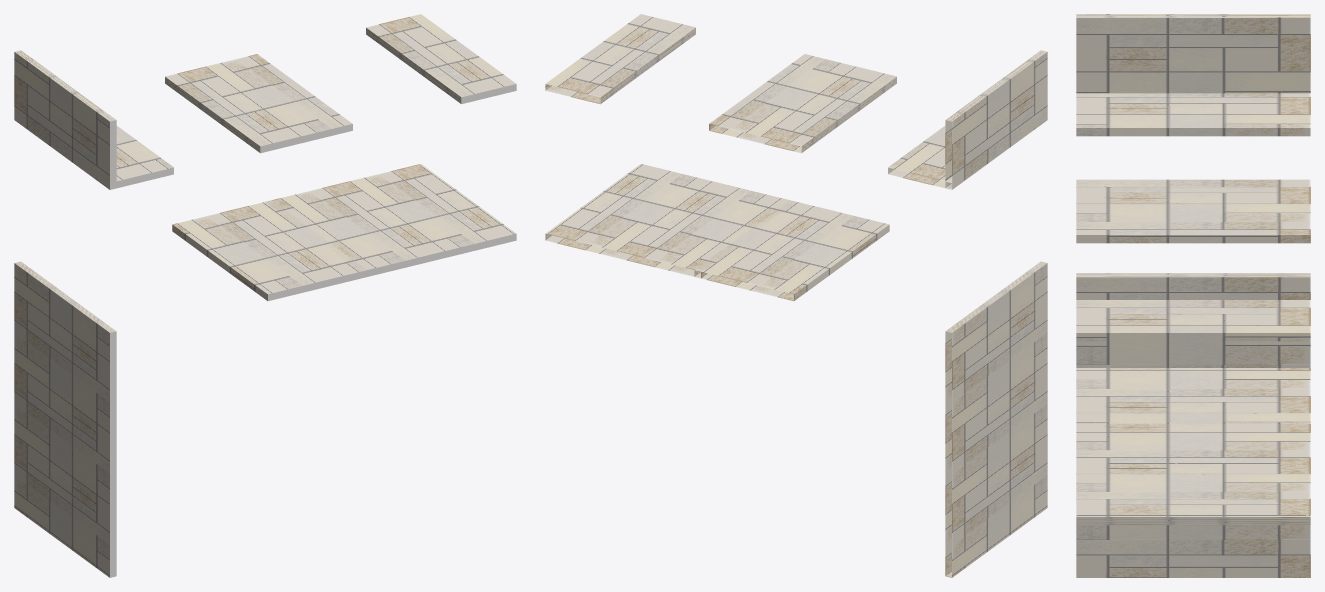
The model's file is wall_3.obj.
The picture shows the model from 3 angles, left to right: view 1: azimuth 30°, elevation 25°; view 2: azimuth 150°, elevation 25°; view 3: azimuth 270°, elevation 25°; orthographic projection. The views are drawn at different scales.
Visible parts, largest first — view 1: walls; view 2: walls; view 3: walls.
Part boxes in pixels (x1,y1,x2,y2): walls: [14, 14, 516, 577]; walls: [545, 14, 1047, 577]; walls: [1076, 14, 1310, 577].
Bounding box in the file's own units: 6.14 × 6.59 × 2.5.
1 material, 1 textured.
